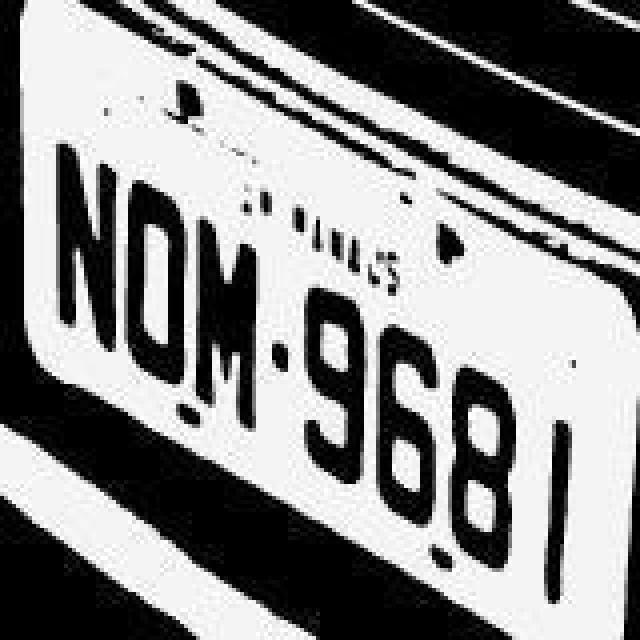1: (532, 324, 604, 612)
6: (366, 266, 450, 550)
8: (442, 286, 526, 578)
9: (296, 246, 376, 530)
M: (184, 188, 264, 484)
N: (40, 122, 120, 398)
O: (112, 164, 192, 460)
